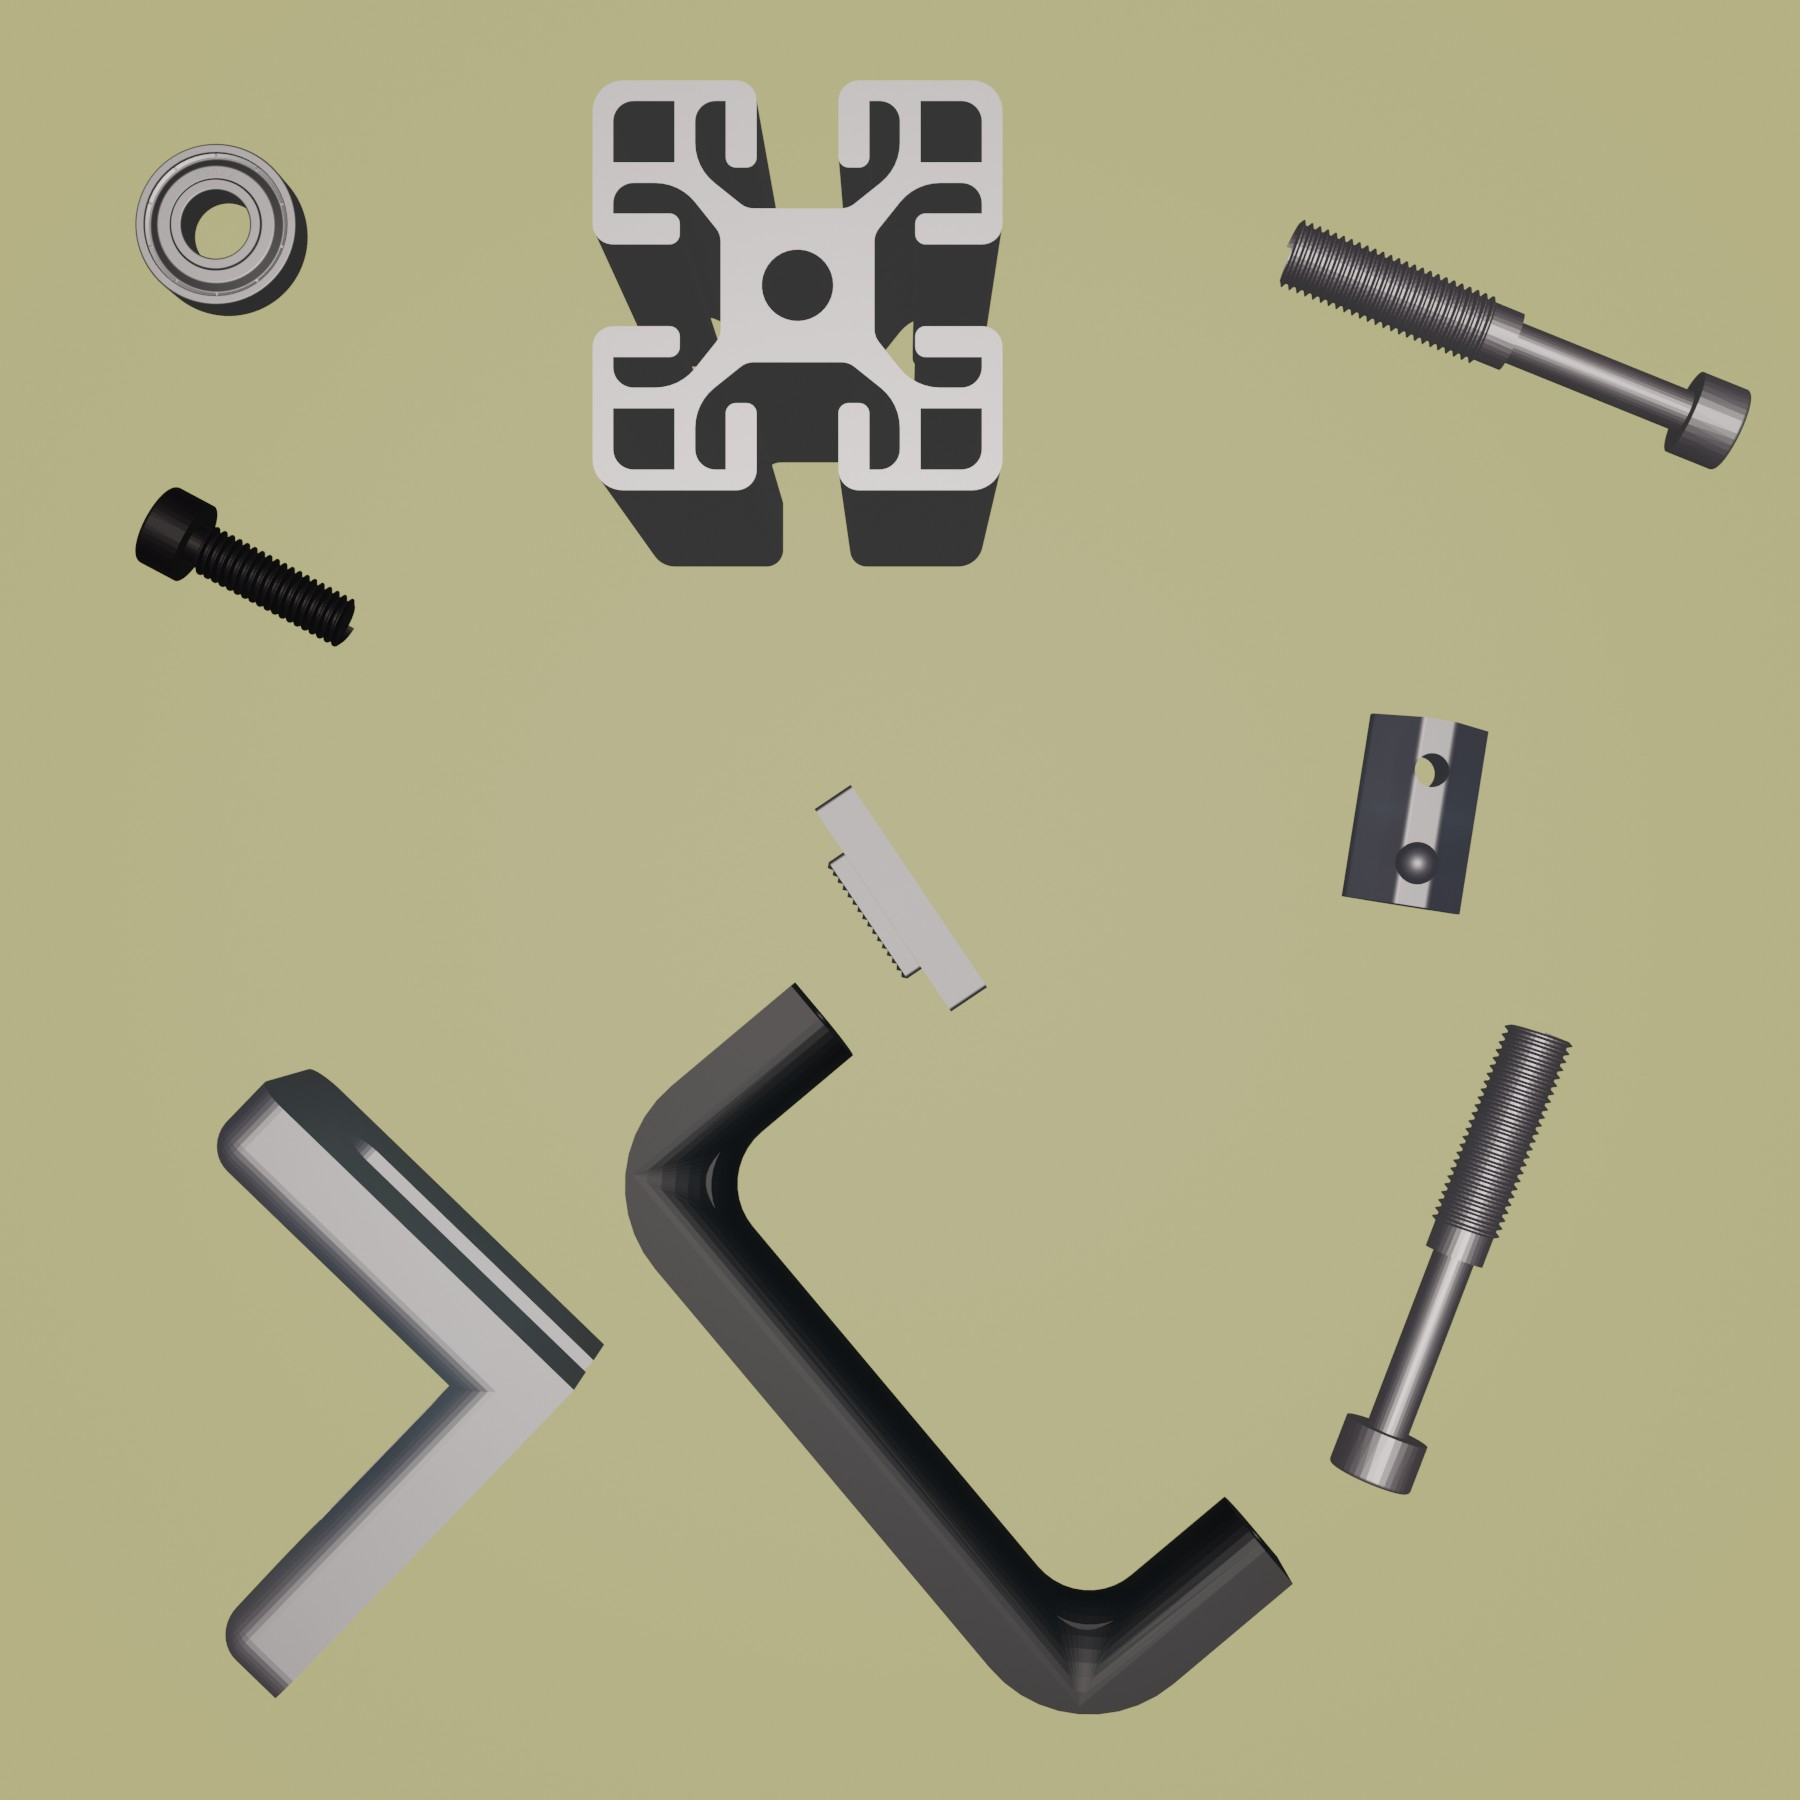Aluminium Extension: (587, 73, 1009, 570)
Ball Bearing: (134, 142, 308, 318)
Multiwinkel: (214, 1063, 605, 1701)
Pull Handle: (623, 977, 1294, 1716)
Shoulder Socket Head Cap Screw: (1276, 219, 1754, 471), (1329, 1020, 1573, 1497)
Socket Head Cap Screw: (132, 485, 359, 649)
T Nut Square: (811, 781, 991, 1014)
T Spring Nut: (1338, 709, 1492, 920)
